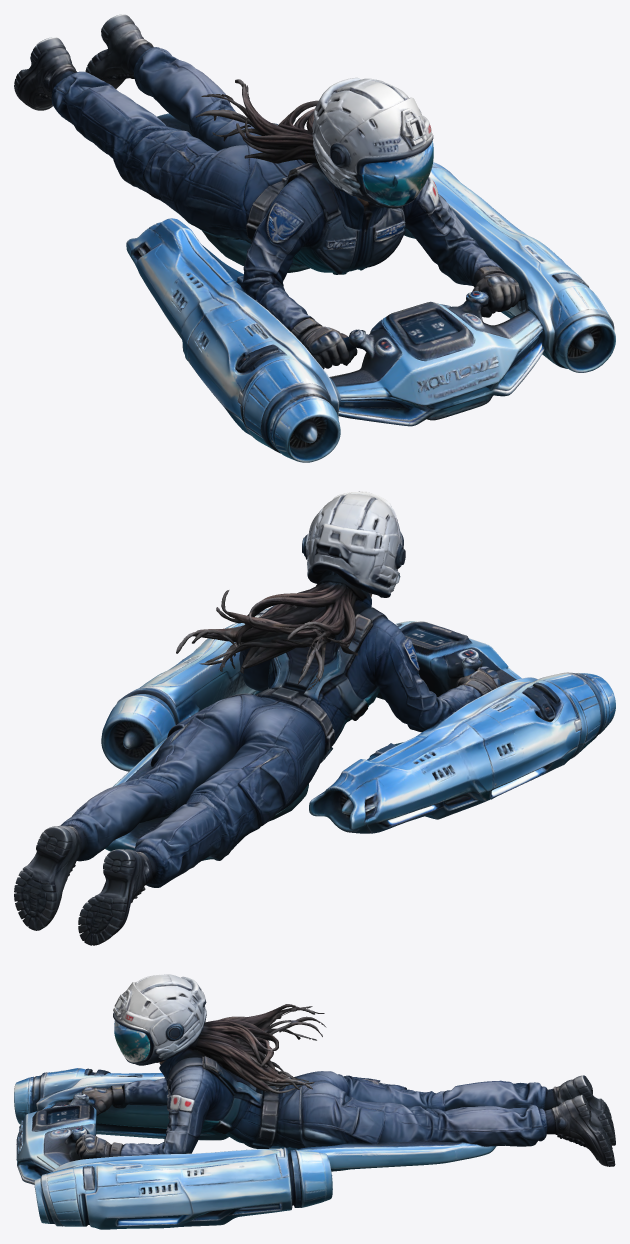
Rendered from sci-fi 3D.glb.
The picture shows the model from 3 angles, top to bottom: view 1: azimuth 30°, elevation 25°; view 2: azimuth 150°, elevation 25°; view 3: azimuth 270°, elevation 25°; orthographic projection. The views are drawn at different scales.
Parts seen in each view (by area): view 1: tripo_node_05daf0fd-376c-45e2-b908-08099539649e; view 2: tripo_node_05daf0fd-376c-45e2-b908-08099539649e; view 3: tripo_node_05daf0fd-376c-45e2-b908-08099539649e.
Boxes of the visible parts, bbox=[...] form: tripo_node_05daf0fd-376c-45e2-b908-08099539649e: bbox=[14, 14, 615, 462]; tripo_node_05daf0fd-376c-45e2-b908-08099539649e: bbox=[14, 491, 615, 945]; tripo_node_05daf0fd-376c-45e2-b908-08099539649e: bbox=[14, 974, 615, 1229].
Bounding box in the file's own units: 0.5079 × 0.3719 × 0.9806.
1 material, 1 textured.
